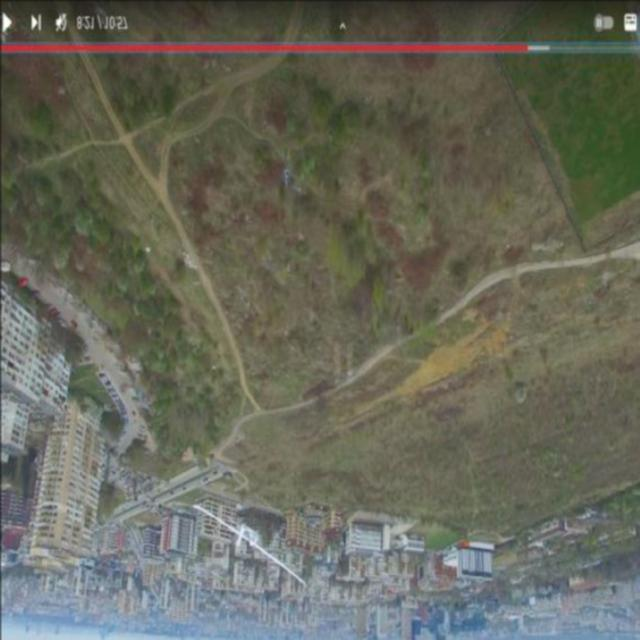plane: (192, 502, 306, 588)
